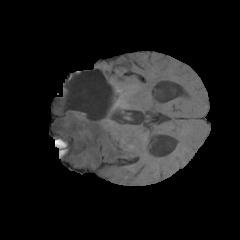glioma: (52, 82, 135, 167)
